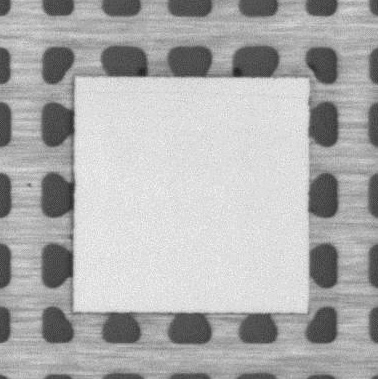DIE_CRACK: (77, 88, 306, 104)
